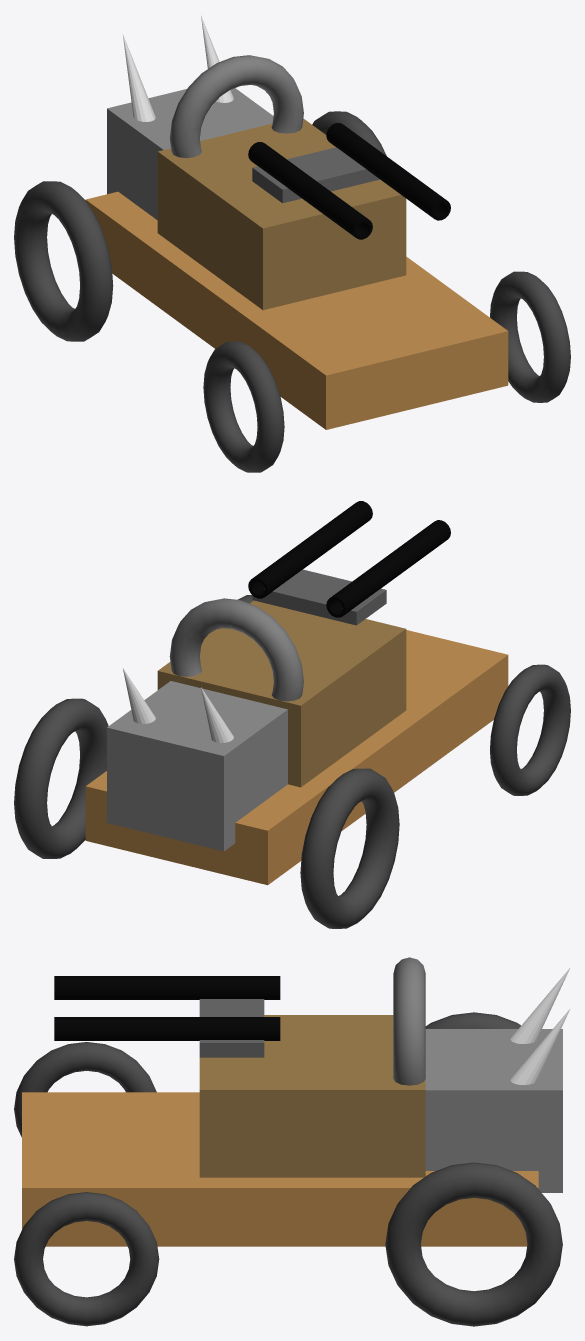
The model's file is WastelandRaider - Copy.glb.
The picture shows the model from 3 angles, top to bottom: view 1: azimuth 30°, elevation 25°; view 2: azimuth 150°, elevation 25°; view 3: azimuth 270°, elevation 25°; orthographic projection. The views are drawn at different scales.
Visible parts, largest first — view 1: Chassis, Cabin, WheelRL, EngineBlock, WheelFL, WheelFR, RollBar, GunL, GunR, GunMount, ExhaustL, WheelRR; view 2: Chassis, EngineBlock, Cabin, WheelRL, WheelRR, WheelFL, RollBar, GunR, GunL, GunMount, ExhaustR, ExhaustL; view 3: Chassis, Cabin, EngineBlock, WheelRR, WheelFR, GunL, GunR, WheelFL, RollBar, GunMount, WheelRL, ExhaustR (+1 smaller).
Part boxes in pixels (x1,y1,x2,y2): Chassis: (85,191,508,429); Cabin: (157,118,406,310); WheelRL: (14,181,113,341); EngineBlock: (107,88,273,219); WheelFL: (203,341,284,472); WheelFR: (490,271,570,402); RollBar: (169,55,303,158); GunL: (248,142,372,239); GunR: (326,123,450,220); GunMount: (252,147,379,203); ExhaustL: (122,34,155,121); WheelRR: (312,111,386,155); Chassis: (85,630,508,885); EngineBlock: (107,681,287,851); Cabin: (157,600,406,787); WheelRL: (300,768,399,928); WheelRR: (14,698,108,858); WheelFL: (490,664,570,795); RollBar: (169,598,303,701); GunR: (248,501,372,598); GunL: (326,520,450,617); GunMount: (252,569,386,625); ExhaustR: (123,668,155,723); ExhaustL: (201,687,233,742); Chassis: (22,1092,538,1246); Cabin: (199,1015,425,1177); EngineBlock: (425,1029,562,1192); WheelRR: (385,1162,562,1326); WheelFR: (14,1192,159,1326); GunL: (54,976,280,999); GunR: (54,1017,280,1040); WheelFL: (14,1042,156,1137); RollBar: (393,957,425,1085); GunMount: (199,999,264,1057); WheelRL: (425,1012,520,1028); ExhaustR: (510,1008,570,1084).
Size of the model in its own units: 2.42 by 1.95 by 3.45.
